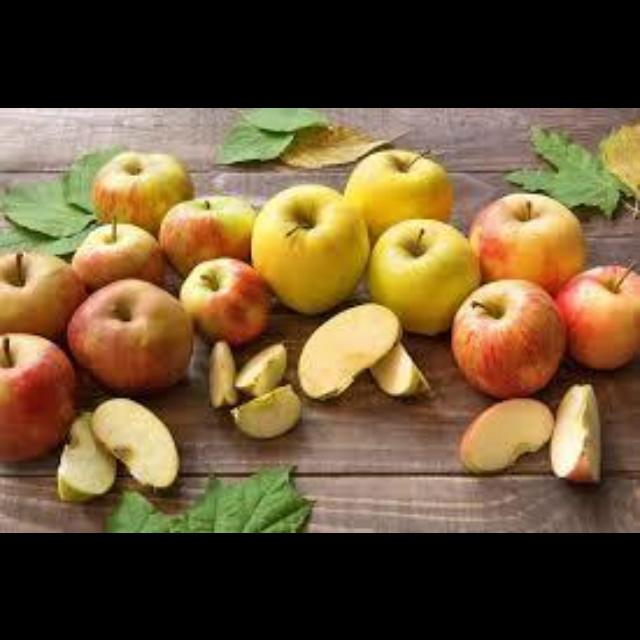apple: (251, 184, 368, 312), (67, 279, 191, 393), (451, 279, 563, 396), (368, 219, 479, 333), (470, 193, 584, 293), (298, 302, 400, 398), (344, 149, 451, 240), (0, 333, 74, 461), (556, 263, 638, 368), (91, 151, 191, 233), (158, 195, 254, 275), (179, 258, 270, 342), (91, 398, 177, 486), (0, 251, 84, 337), (461, 398, 552, 472), (72, 216, 163, 289), (58, 412, 114, 500), (549, 384, 598, 479), (230, 384, 300, 435), (370, 342, 428, 396), (235, 342, 286, 393), (209, 340, 237, 405)
